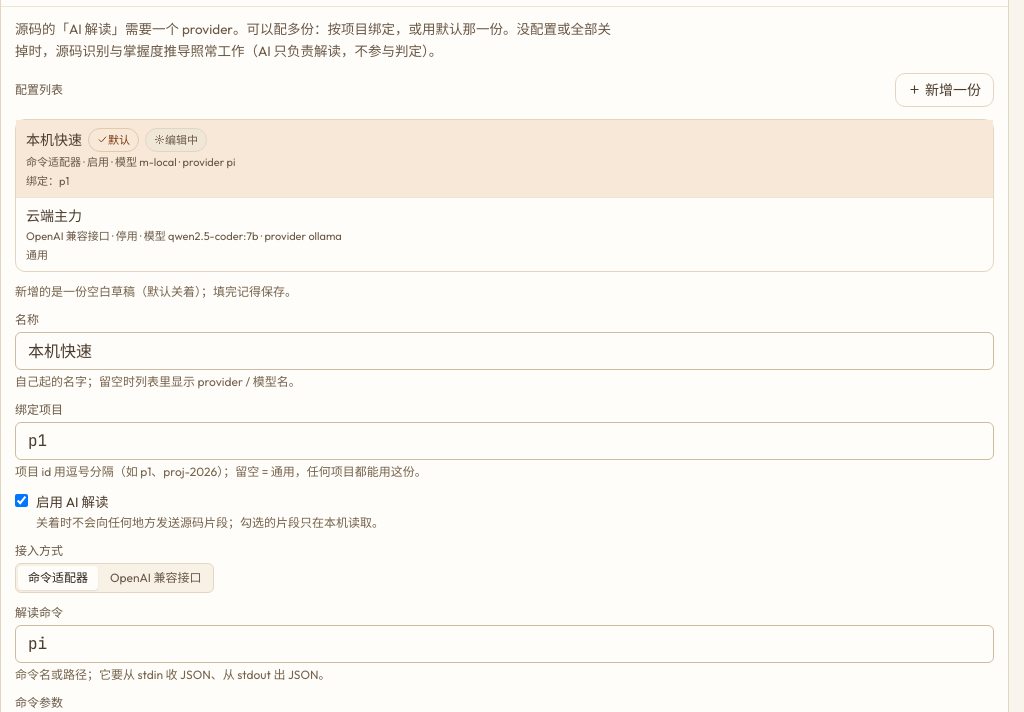
Scenario: M9 · 设置页「AI 解读」区 · 单份的字段行为 › **命令形态**显示命令与参数字段；切到 **OpenAI 兼容**显示端点与模型
This screenshot has width=1024, height=712.
Check: the field labelled "解读命令" is shown, box [15, 624, 994, 662]
Check: the field labelled "接口地址" is not shown
Step 1. Click the button "OpenAI 兼容接口" → {"x": 156, "y": 578}, box [100, 566, 211, 590]
(page scrolled)
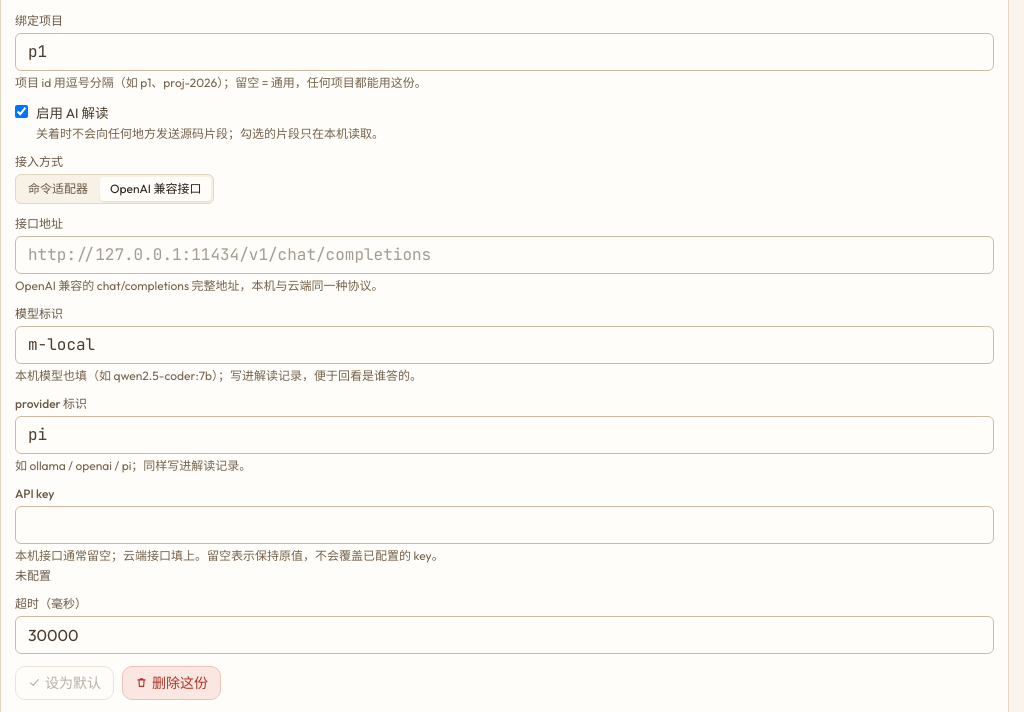
Check: the field labelled "接口地址" is shown, box [15, 236, 994, 274]
Check: the label labelled "解读命令" is gone
